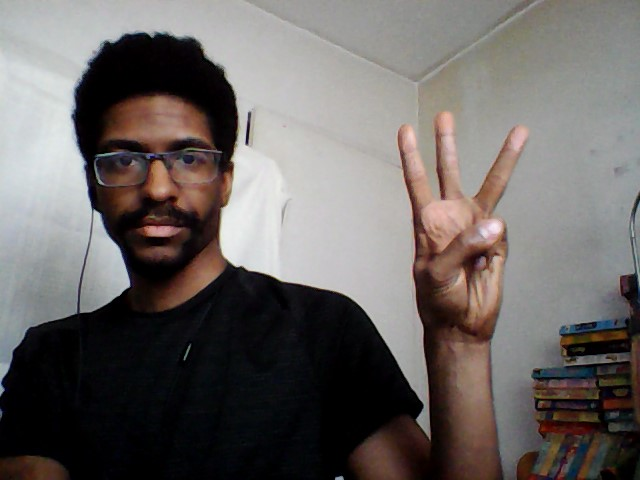w: (391, 104, 534, 343)
